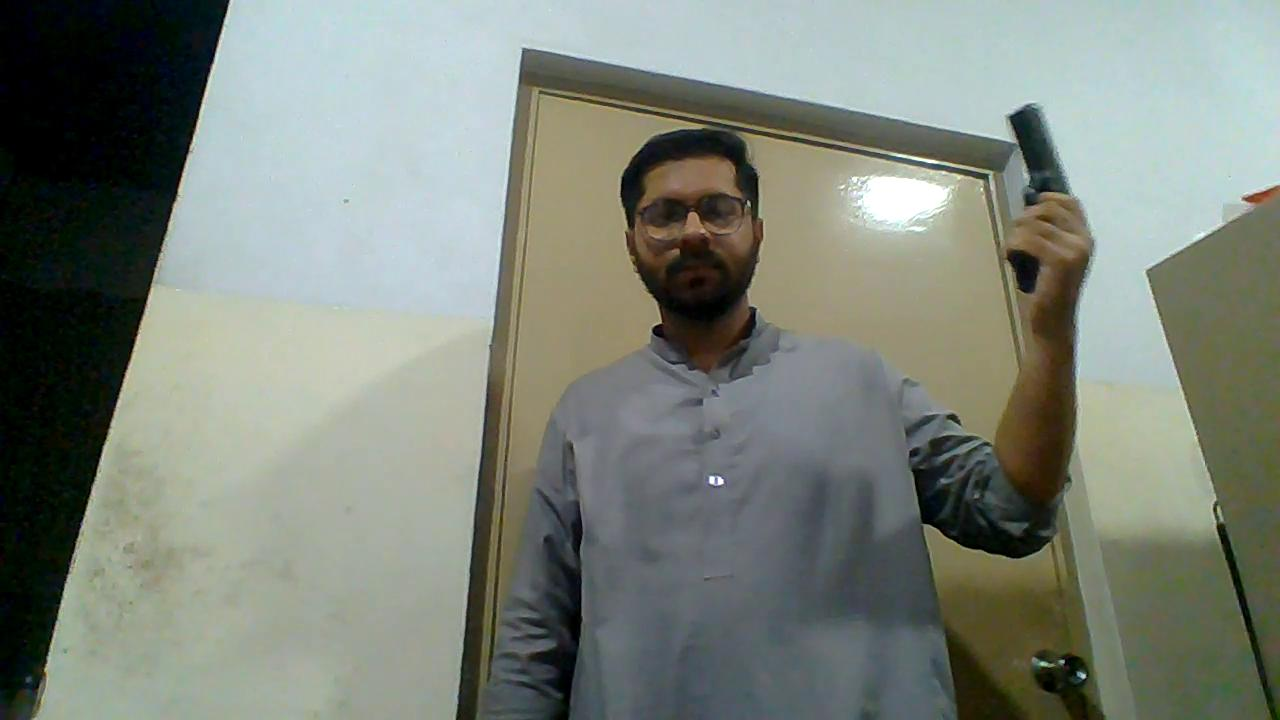criminal: (477, 103, 1097, 720)
weapon: (1004, 103, 1078, 294)
